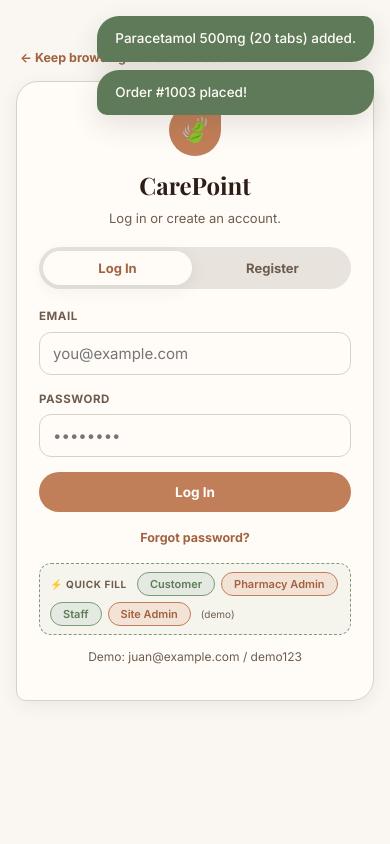
wishlist › heart toggles a medicine in and out of the wishlist
In the field with placeholder "you@example.com": (195, 353) x1=39 y1=332 x2=351 y2=375, type "juan@example.com"
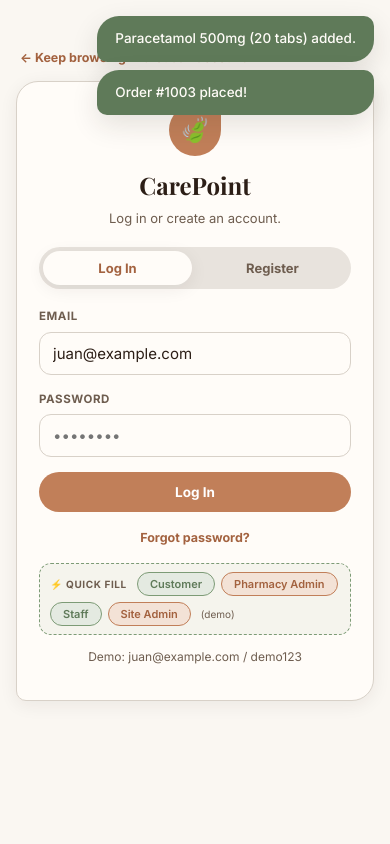
In the password field with placeholder "••••••••": (195, 436) x1=39 y1=414 x2=351 y2=457, type "demo123"
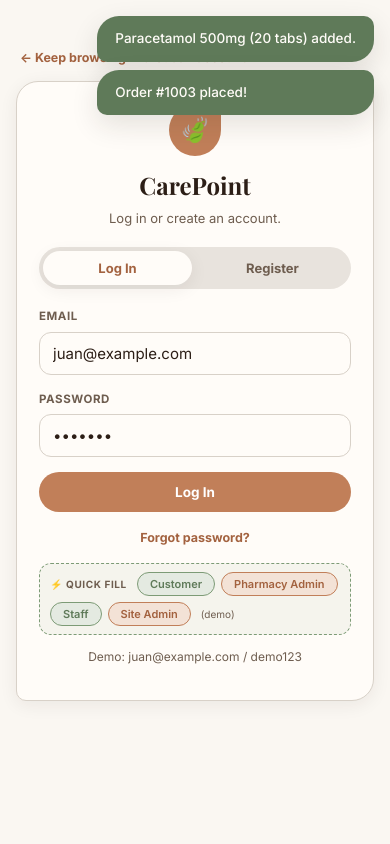
Submit the form with placeholder "you@example.com", box x1=39 y1=307 x2=351 y2=666
(page scrolled)
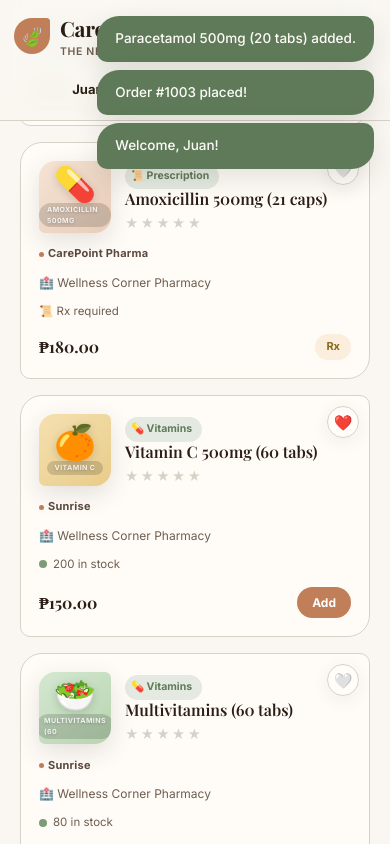
Check: the button named "Cart" is shown, box x1=178 y1=70 x2=216 y2=108
Check: the button "❤️" is shown
Click the button "❤️": (343, 422) x1=327 y1=406 x2=359 y2=438
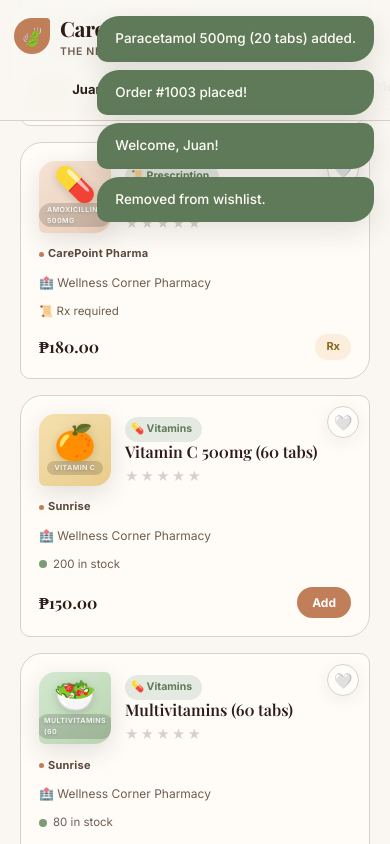
Check: the text "Removed from wishlist." is shown, box x1=97 y1=177 x2=374 y2=222
Click the 2nd button "🤍": (343, 422) x1=327 y1=406 x2=359 y2=438
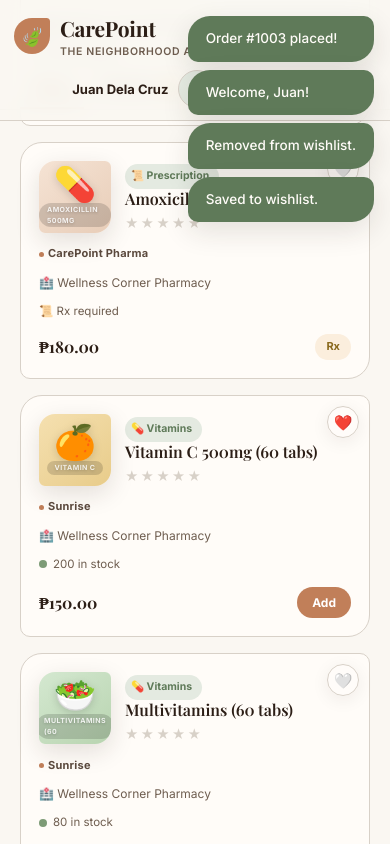
Check: the text "Saved to wishlist." is shown, box x1=188 y1=177 x2=374 y2=222
